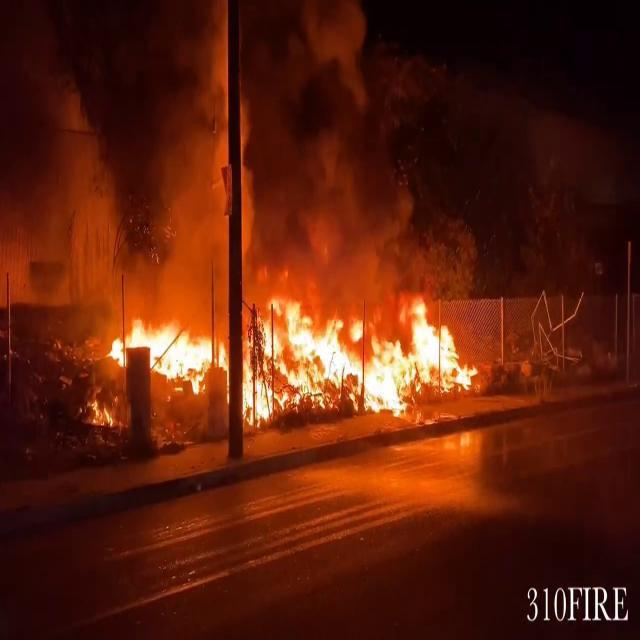Fire: (99, 284, 479, 423)
Smoke: (0, 0, 405, 301)
